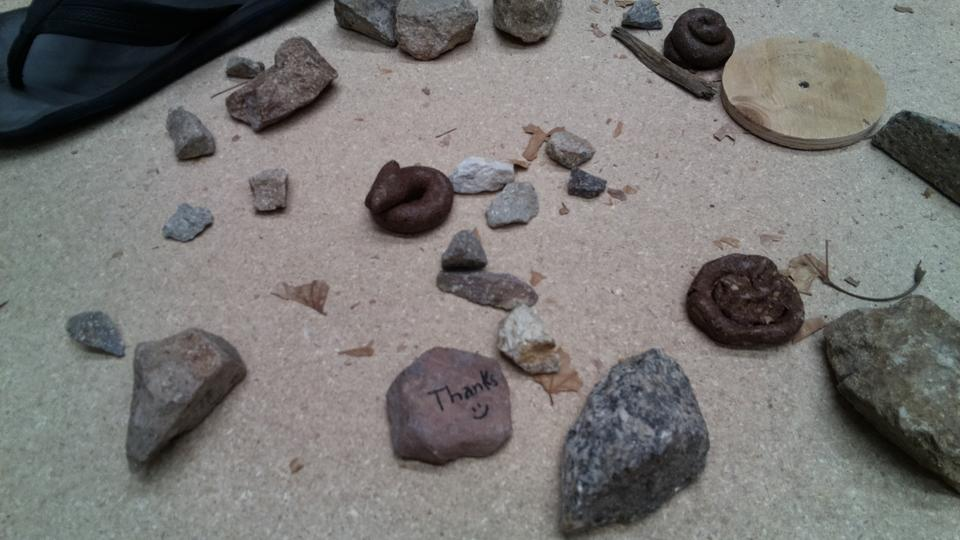poop: (681, 250, 811, 351), (362, 158, 457, 238), (662, 5, 738, 74)
